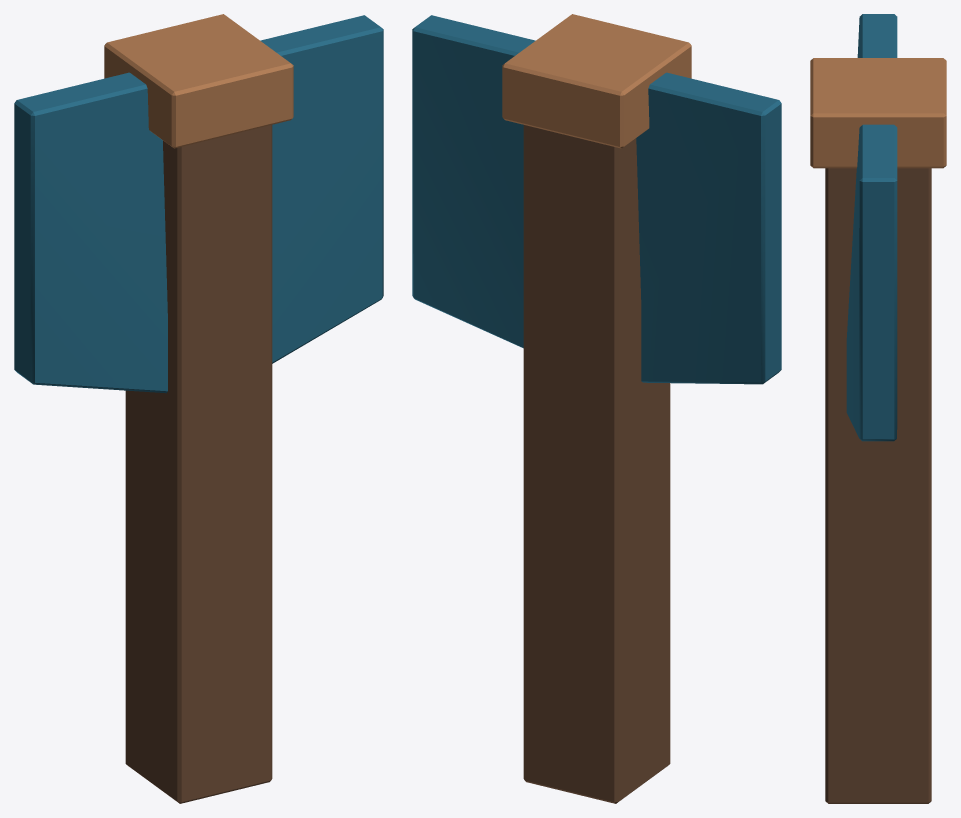
The model's file is flag_small_01.glb.
3 renders of one model, left to right at view 1: azimuth 30°, elevation 25°; view 2: azimuth 150°, elevation 25°; view 3: azimuth 270°, elevation 25°, orthographic. The views are drawn at different scales.
Parts seen in each view (by area): view 1: flag_small_01; view 2: flag_small_01; view 3: flag_small_01.
Part boxes in pixels (x1,y1,x2,y2): flag_small_01: (14, 14, 383, 803); flag_small_01: (412, 14, 781, 803); flag_small_01: (810, 14, 946, 803).
Size of the model in its own units: 0.52 by 1.01 by 0.18.
